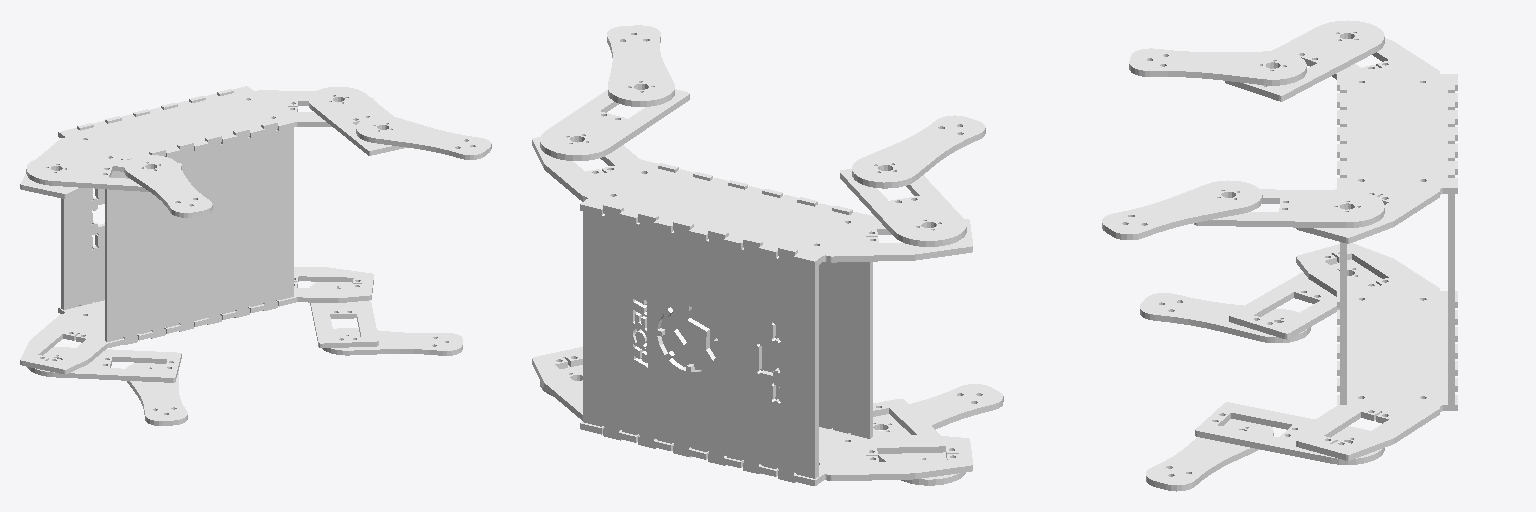
robot.urdf — Robot Final.SLDASM:
<?xml version="1.0" encoding="utf-8"?>
<!-- This URDF was automatically created by SolidWorks to URDF Exporter! Originally created by Stephen Brawner (brawner@gmail.com) 
     Commit Version: 1.6.0-4-g7f85cfe  Build Version: 1.6.7995.38578
     For more information, please see http://wiki.ros.org/sw_urdf_exporter -->
<robot
  name="Robot Final.SLDASM">
  <link
    name="base_link">
    <inertial>
      <origin
        xyz="-0.032825 0.010106 -0.0070608"
        rpy="0 0 0" />
      <mass
        value="0.33418" />
      <inertia
        ixx="0.0004217"
        ixy="-2.9891E-13"
        ixz="6.2132E-08"
        iyy="0.0015733"
        iyz="1.6129E-17"
        izz="0.0012959" />
    </inertial>
    <visual>
      <origin
        xyz="0 0 0"
        rpy="0 0 0" />
      <geometry>
        <mesh
          filename="base_link.STL" />
      </geometry>
      <material
        name="">
        <color
          rgba="1 1 1 0.35" />
      </material>
    </visual>
    <collision>
      <origin
        xyz="0 0 0"
        rpy="0 0 0" />
      <geometry>
        <mesh
          filename="base_link.STL" />
      </geometry>
    </collision>
  </link>
  <link
    name="right_shoulder">
    <inertial>
      <origin
        xyz="0 0.059196 0.002"
        rpy="0 0 0" />
      <mass
        value="0.016868" />
      <inertia
        ixx="0.001"
        ixy="-1.0588E-21"
        ixz="-4.7588E-22"
        iyy="0.001"
        iyz="1.0395E-21"
        izz="0.001" />
    </inertial>
    <visual>
      <origin
        xyz="0 0 0"
        rpy="0 0 0" />
      <geometry>
        <mesh
          filename="right_shoulder.STL" />
      </geometry>
      <material
        name="ABS PC">
        <color
          rgba="1 1 1 0.35" />
      </material>
    </visual>
    <collision>
      <origin
        xyz="0 0 0"
        rpy="0 0 0" />
      <geometry>
        <mesh
          filename="right_shoulder.STL" />
      </geometry>
    </collision>
  </link>
  <joint
    name="right_shoulder_link"
    type="continuous">
    <origin
      xyz="0.084485 -0.10764 0.069482"
      rpy="0 0 -0.040958" />
    <parent
      link="base_link" />
    <child
      link="right_shoulder" />
    <axis xyz="0 0 1" />
  </joint>
  <link
    name="right_front_leg">
    <inertial>
      <origin
        xyz="-2.0817E-17 -0.031562 0.002"
        rpy="0 0 0" />
      <mass
        value="0.013922" />
      <inertia
        ixx="0.001"
        ixy="-8.8409E-21"
        ixz="3.8957E-23"
        iyy="0.001"
        iyz="4.3002E-21"
        izz="0.001" />
    </inertial>
    <visual>
      <origin
        xyz="0 0 0"
        rpy="0 0 0" />
      <geometry>
        <mesh
          filename="right_front_leg.STL" />
      </geometry>
      <material
        name="">
        <color
          rgba="1 1 1 0.35" />
      </material>
    </visual>
    <collision>
      <origin
        xyz="0 0 0"
        rpy="0 0 0" />
      <geometry>
        <mesh
          filename="right_front_leg.STL" />
      </geometry>
    </collision>
  </link>
  <joint
    name="right_front_leg_link"
    type="continuous">
    <origin
      xyz="0 0.020003036538349 0.00650000000000464"
      rpy="0 0 0.624846439392489" />
    <parent
      link="right_shoulder" />
    <child
      link="right_front_leg" />
    <axis
      xyz="0 0 1" />
  </joint>
  <link
    name="left_shoulder">
    <inertial>
      <origin
        xyz="-1.3878E-17 0.059196 0.002"
        rpy="0 0 0" />
      <mass
        value="0.016868" />
      <inertia
        ixx="0.001"
        ixy="2.3293E-21"
        ixz="-1.2832E-22"
        iyy="0.001"
        iyz="3.5605E-21"
        izz="0.001" />
    </inertial>
    <visual>
      <origin
        xyz="0 0 0"
        rpy="0 0 0" />
      <geometry>
        <mesh
          filename="left_shoulder.STL" />
      </geometry>
      <material
        name="">
        <color
          rgba="1 1 1 0.35" />
      </material>
    </visual>
    <collision>
      <origin
        xyz="0 0 0"
        rpy="0 0 0" />
      <geometry>
        <mesh
          filename="left_shoulder.STL" />
      </geometry>
    </collision>
  </link>
  <joint
    name="left_shoulder_link"
    type="continuous">
    <origin
      xyz="0.0494064879704632 -0.099056323906075 -0.0835183568674249"
      rpy="-3.14159265358979 0 2.7020575896327" />
    <parent
      link="base_link" />
    <child
      link="left_shoulder" />
    <axis
      xyz="0 0 1" />
    <dynamics
      damping="1"
      friction="1" />
  </joint>
  <link
    name="left_front_leg">
    <inertial>
      <origin
        xyz="2.0817E-17 -0.031562 0.002"
        rpy="0 0 0" />
      <mass
        value="0.013922" />
      <inertia
        ixx="0.001"
        ixy="2.1388E-20"
        ixz="-2.4851E-22"
        iyy="0.001"
        iyz="7.4651E-22"
        izz="0.001" />
    </inertial>
    <visual>
      <origin
        xyz="0 0 0"
        rpy="0 0 0" />
      <geometry>
        <mesh
          filename="left_front_leg.STL" />
      </geometry>
      <material
        name="">
        <color
          rgba="1 1 1 0.35" />
      </material>
    </visual>
    <collision>
      <origin
        xyz="0 0 0"
        rpy="0 0 0" />
      <geometry>
        <mesh
          filename="left_front_leg.STL" />
      </geometry>
    </collision>
  </link>
  <joint
    name="left_front_leg_link"
    type="continuous">
    <origin
      xyz="0 0.0200030365383422 0.00649999999999558"
      rpy="0 0 -1.42102242994654" />
    <parent
      link="left_shoulder" />
    <child
      link="left_front_leg" />
    <axis
      xyz="0 0 1" />
  </joint>
  <link
    name="right_hip">
    <inertial>
      <origin
        xyz="-1.3878E-17 0.059196 0.002"
        rpy="0 0 0" />
      <mass
        value="0.016868" />
      <inertia
        ixx="0.001"
        ixy="9.5291E-22"
        ixz="1.6573E-22"
        iyy="0.001"
        iyz="8.1465E-21"
        izz="0.001" />
    </inertial>
    <visual>
      <origin
        xyz="0 0 0"
        rpy="0 0 0" />
      <geometry>
        <mesh
          filename="right_hip.STL" />
      </geometry>
      <material
        name="">
        <color
          rgba="1 1 1 0.35" />
      </material>
    </visual>
    <collision>
      <origin
        xyz="0 0 0"
        rpy="0 0 0" />
      <geometry>
        <mesh
          filename="right_hip.STL" />
      </geometry>
    </collision>
  </link>
  <joint
    name="right_hip_link"
    type="continuous">
    <origin
      xyz="-0.0827258320400727 -0.0735749478654602 0.0694816431325751"
      rpy="0 0 0.894961894405035" />
    <parent
      link="base_link" />
    <child
      link="right_hip" />
    <axis
      xyz="0 0 1" />
  </joint>
  <link
    name="right_back_leg">
    <inertial>
      <origin
        xyz="0 -0.031562 0.002"
        rpy="0 0 0" />
      <mass
        value="0.013922" />
      <inertia
        ixx="0.001"
        ixy="-1.9032E-20"
        ixz="-5.7678E-22"
        iyy="0.001"
        iyz="6.9668E-21"
        izz="0.001" />
    </inertial>
    <visual>
      <origin
        xyz="0 0 0"
        rpy="0 0 0" />
      <geometry>
        <mesh
          filename="right_back_leg.STL" />
      </geometry>
      <material
        name="">
        <color
          rgba="1 1 1 0.35" />
      </material>
    </visual>
    <collision>
      <origin
        xyz="0 0 0"
        rpy="0 0 0" />
      <geometry>
        <mesh
          filename="right_back_leg.STL" />
      </geometry>
    </collision>
  </link>
  <joint
    name="right_back_leg_link"
    type="continuous">
    <origin
      xyz="0 0.0200030365383461 0.00649999999999981"
      rpy="0 0 -1.00676371861286" />
    <parent
      link="right_hip" />
    <child
      link="right_back_leg" />
    <axis
      xyz="0.0 0 1" />
  </joint>
  <link
    name="left_hip">
    <inertial>
      <origin
        xyz="-4.1633E-17 0.059196 0.002"
        rpy="0 0 0" />
      <mass
        value="0.016868" />
      <inertia
        ixx="0.001"
        ixy="3.2823E-21"
        ixz="-2.3123E-22"
        iyy="0.001"
        iyz="1.3549E-21"
        izz="0.001" />
    </inertial>
    <visual>
      <origin
        xyz="0 0 0"
        rpy="0 0 0" />
      <geometry>
        <mesh
          filename="left_hip.STL" />
      </geometry>
      <material
        name="">
        <color
          rgba="1 1 1 0.35" />
      </material>
    </visual>
    <collision>
      <origin
        xyz="0 0 0"
        rpy="0 0 0" />
      <geometry>
        <mesh
          filename="left_hip.STL" />
      </geometry>
    </collision>
  </link>
  <joint
    name="left_hip_link"
    type="continuous">
    <origin
      xyz="-0.0803722222962356 -0.0704931866509989 -0.0835183568674255"
      rpy="-3.14159265358979 0 -2.20414374810614" />
    <parent
      link="base_link" />
    <child
      link="left_hip" />
    <axis
      xyz="0.0 0 1" />
  </joint>
  <link
    name="left_back_leg">
    <inertial>
      <origin
        xyz="0 -0.031562 0.002"
        rpy="0 0 0" />
      <mass
        value="0.013922" />
      <inertia
        ixx="0.001"
        ixy="-2.0064E-20"
        ixz="-1.1032E-21"
        iyy="0.001"
        iyz="-3.2845E-21"
        izz="0.001" />
    </inertial>
    <visual>
      <origin
        xyz="0 0 0"
        rpy="0 0 0" />
      <geometry>
        <mesh
          filename="left_back_leg.STL" />
      </geometry>
      <material
        name="">
        <color
          rgba="1 1 1 0.35" />
      </material>
    </visual>
    <collision>
      <origin
        xyz="0 0 0"
        rpy="0 0 0" />
      <geometry>
        <mesh
          filename="left_back_leg.STL" />
      </geometry>
    </collision>
  </link>
  <joint
    name="left_back_leg_link"
    type="continuous">
    <origin
      xyz="0 0.020003 0.0065"
      rpy="0 0 1.3156" />
    <parent
      link="left_hip" />
    <child
      link="left_back_leg" />
    <axis xyz="0 0 1" />
  </joint>
</robot>

--- Facts derived from the render (not from the file) ---
Views: 3 orthographic renders of the robot side by side, from view 1: azimuth 30°, elevation 25°; view 2: azimuth 150°, elevation 25°; view 3: azimuth 270°, elevation 25°.
Model Robot Final.SLDASM with 9 links and 8 joints (8 continuous), rooted at base_link, posed all joints at 0.
Links seen in each view (by area): view 1: base_link, right_front_leg, right_back_leg, right_hip, left_hip, right_shoulder, left_shoulder, left_front_leg, left_back_leg; view 2: base_link, right_shoulder, right_back_leg, right_hip, right_front_leg, left_back_leg, left_hip; view 3: base_link, right_back_leg, right_front_leg, right_shoulder, right_hip, left_shoulder, left_hip, left_front_leg, left_back_leg.
Link boxes in pixels (x1,y1,x2,y2): base_link: (20,86,373,374); right_front_leg: (356,116,491,159); right_back_leg: (124,155,212,217); right_hip: (26,156,181,191); left_hip: (27,347,181,382); right_shoulder: (309,87,406,155); left_shoulder: (310,282,378,347); left_front_leg: (322,328,462,355); left_back_leg: (126,363,187,425); base_link: (532,137,972,485); right_shoulder: (540,89,689,160); right_back_leg: (852,115,985,188); right_hip: (840,169,966,246); right_front_leg: (607,25,674,106); left_back_leg: (873,384,1003,435); left_hip: (873,399,965,485); base_link: (1296,38,1457,460); right_back_leg: (1129,48,1306,85); right_front_leg: (1102,180,1262,239); right_shoulder: (1194,189,1384,227); right_hip: (1225,20,1384,101); left_shoulder: (1195,402,1384,464); left_hip: (1229,259,1381,339); left_front_leg: (1146,419,1273,491); left_back_leg: (1140,293,1310,342).
Size in the robot's own frame: 0.3261 by 0.2142 by 0.174 metres.
Meshes: 9 distinct files referenced, 9 mesh visuals loaded (9 binary STL).
